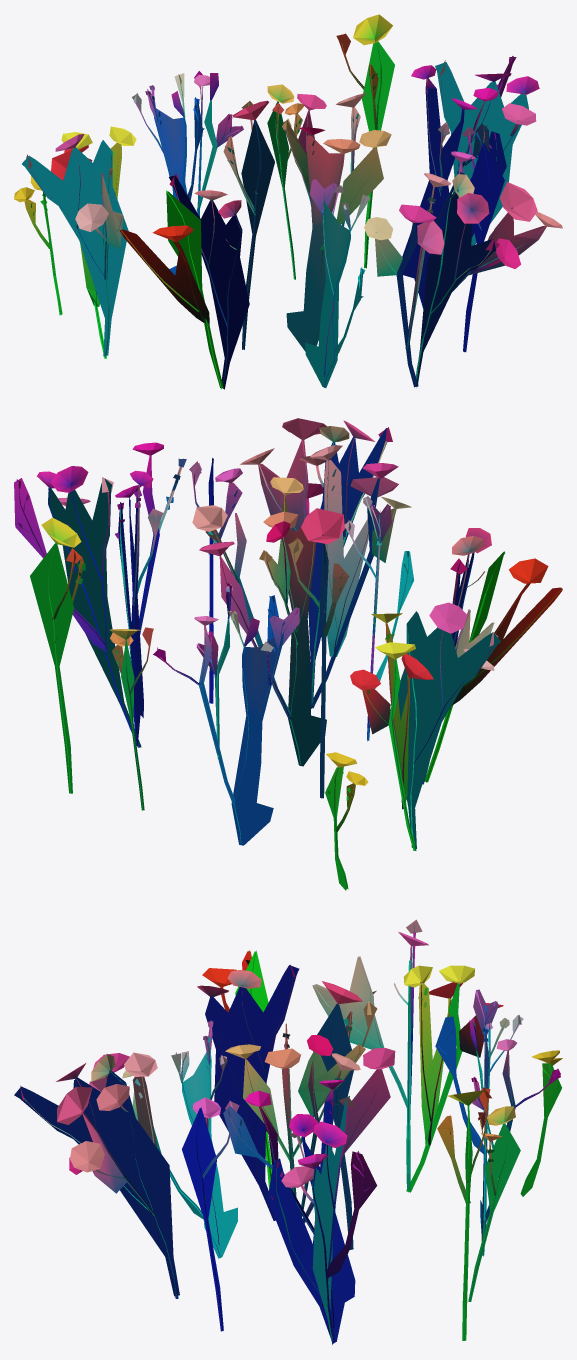
Rendered from Nordic_Coastal_Groundcover_vlqkdeaja_Mid_vlqkdeaja_VarB_LOD0.fbx.
The picture shows the model from 3 angles, top to bottom: view 1: azimuth 30°, elevation 25°; view 2: azimuth 150°, elevation 25°; view 3: azimuth 270°, elevation 25°; orthographic projection. The views are drawn at different scales.
Parts seen in each view (by area): view 1: _9qv8_VarB_LOD1; view 2: _9qv8_VarB_LOD1; view 3: _9qv8_VarB_LOD1.
Part boxes in pixels (bbox=[...]): _9qv8_VarB_LOD1: bbox=[14, 14, 562, 389]; _9qv8_VarB_LOD1: bbox=[14, 418, 562, 890]; _9qv8_VarB_LOD1: bbox=[14, 919, 562, 1344].
Bounding box in the file's own units: 98.46 × 51.38 × 93.64.
